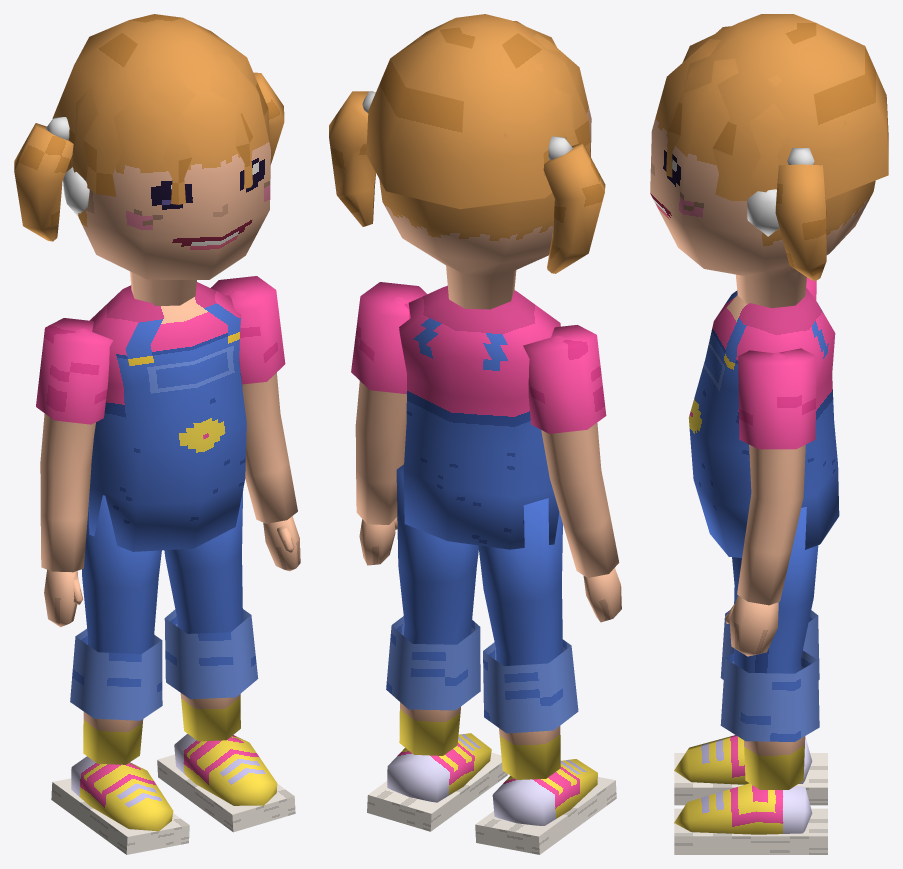
The model's file is Kid Overalls.fbx.
The picture shows the model from 3 angles, left to right: view 1: azimuth 30°, elevation 25°; view 2: azimuth 150°, elevation 25°; view 3: azimuth 270°, elevation 25°; orthographic projection. The views are drawn at different scales.
Visible parts, largest first — view 1: Kid Overalls torso, Kid Overalls head, Kid Overalls hair cap, Kid Overalls leg R.001, Kid Overalls leg L.001, Kid Overalls arm R.001, Kid Overalls sleeve R, Kid Overalls overall cuff R, Kid Overalls overall cuff L, Kid Overalls arm L.001, Kid Overalls shoe L, Kid Overalls shoe R (+8 smaller); view 2: Kid Overalls torso, Kid Overalls hair cap, Kid Overalls head, Kid Overalls leg R.001, Kid Overalls leg L.001, Kid Overalls arm R.001, Kid Overalls sleeve R, Kid Overalls overall cuff R, Kid Overalls overall cuff L, Kid Overalls arm L.001, Kid Overalls sleeve L, Kid Overalls pigtail -1 (+7 smaller); view 3: Kid Overalls hair cap, Kid Overalls head, Kid Overalls torso, Kid Overalls leg L.001, Kid Overalls arm L.001, Kid Overalls sleeve L, Kid Overalls overall cuff L, Kid Overalls shoe L, Kid Overalls pigtail 1, Kid Overalls sole L, Kid Overalls shoe R, Kid Overalls hand L (+3 smaller).
Part boxes in pixels (x1,y1,x2,y2): Kid Overalls torso: [89, 282, 246, 551]; Kid Overalls head: [70, 36, 270, 306]; Kid Overalls hair cap: [52, 14, 270, 204]; Kid Overalls leg R.001: [82, 495, 161, 764]; Kid Overalls leg L.001: [164, 490, 243, 741]; Kid Overalls arm R.001: [40, 328, 95, 572]; Kid Overalls sleeve R: [36, 318, 113, 424]; Kid Overalls overall cuff R: [70, 628, 162, 720]; Kid Overalls overall cuff L: [164, 609, 258, 699]; Kid Overalls arm L.001: [229, 289, 297, 523]; Kid Overalls shoe L: [174, 734, 277, 806]; Kid Overalls shoe R: [71, 756, 173, 832]; Kid Overalls torso: [399, 285, 560, 549]; Kid Overalls hair cap: [366, 14, 590, 209]; Kid Overalls head: [379, 21, 591, 309]; Kid Overalls leg R.001: [478, 498, 562, 779]; Kid Overalls leg L.001: [396, 464, 478, 755]; Kid Overalls arm R.001: [541, 335, 619, 577]; Kid Overalls sleeve R: [523, 325, 606, 433]; Kid Overalls overall cuff R: [483, 639, 578, 733]; Kid Overalls overall cuff L: [386, 616, 480, 710]; Kid Overalls arm L.001: [355, 296, 408, 524]; Kid Overalls sleeve L: [351, 282, 426, 394]; Kid Overalls pigtail -1: [543, 142, 605, 273]; Kid Overalls hair cap: [666, 14, 888, 200]; Kid Overalls head: [650, 26, 875, 308]; Kid Overalls torso: [688, 287, 839, 557]; Kid Overalls leg L.001: [732, 507, 818, 789]; Kid Overalls arm L.001: [737, 352, 805, 605]; Kid Overalls sleeve L: [738, 348, 816, 449]; Kid Overalls overall cuff L: [720, 650, 819, 741]; Kid Overalls shoe L: [674, 783, 812, 834]; Kid Overalls pigtail 1: [775, 164, 826, 280]; Kid Overalls sole L: [674, 808, 827, 854]; Kid Overalls shoe R: [674, 735, 812, 784]; Kid Overalls hand L: [729, 595, 778, 656].
Size of the model in its own units: 0.4377 by 1.2 by 0.3281.
Materials: 13 (11 with a texture image).
